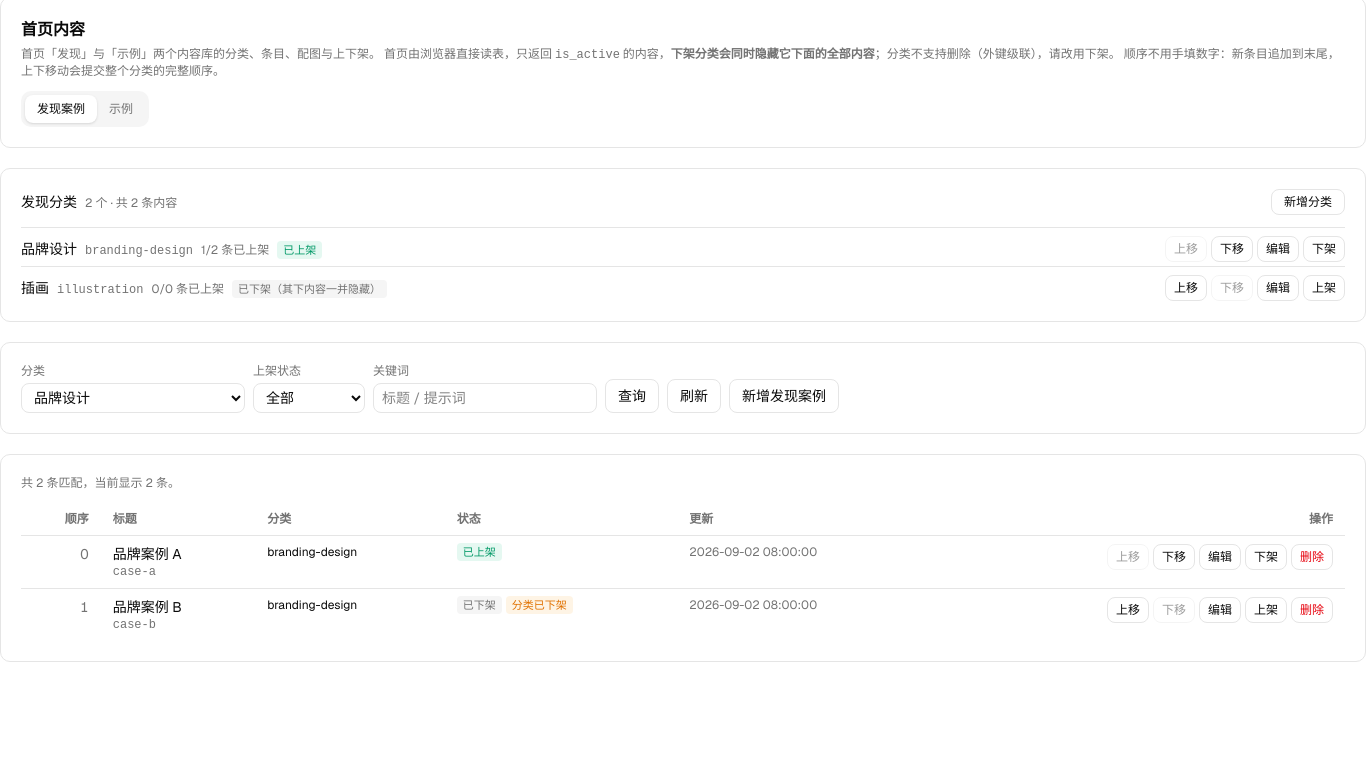
it: admin home content section › reports how many entries a category unpublish hides
Expected: the table with test id "admin-home-table" is shown, [21, 503, 1345, 641]
Click the button "下架" in the row of "品牌设计" at (1324, 249), box [1303, 236, 1345, 262]
(page scrolled)
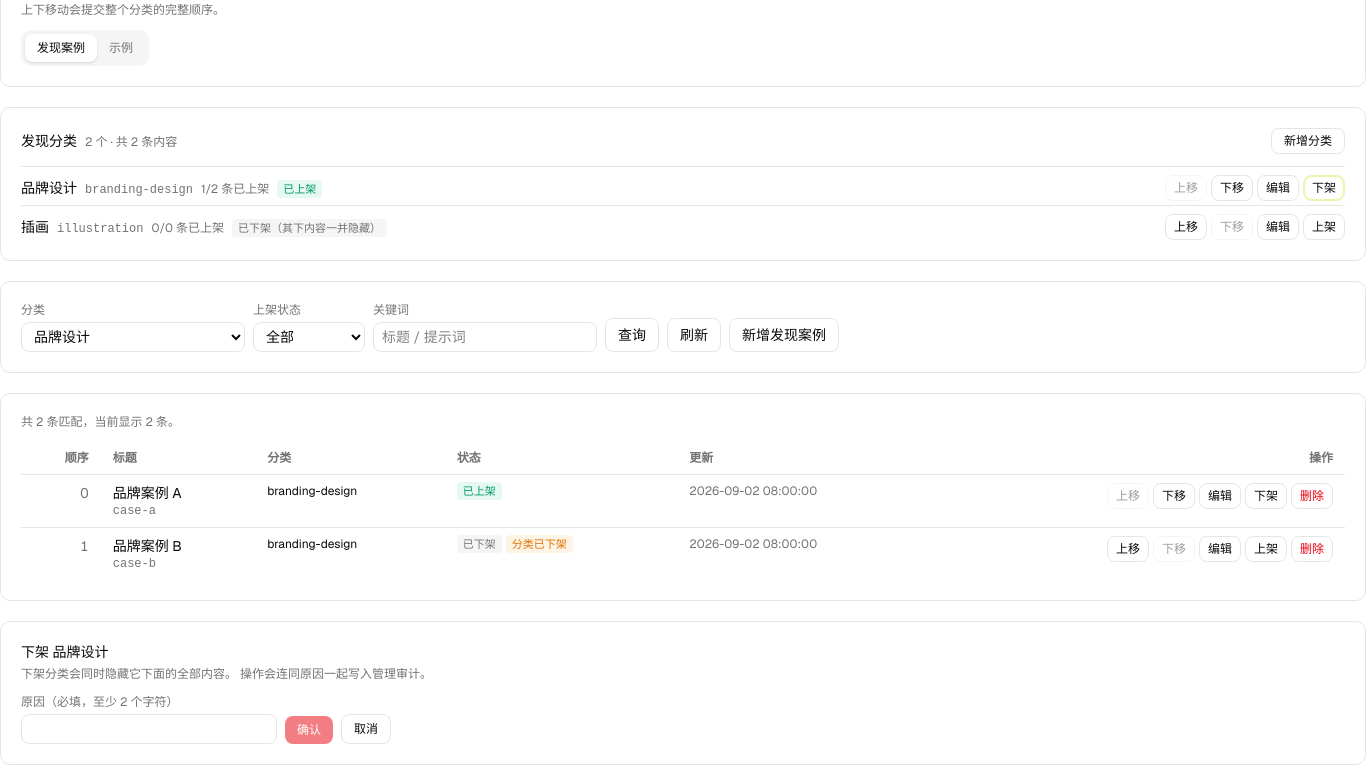
Expected: the element with test id "admin-home-confirm" shows "下架分类会同时隐藏它下面的全部内容。", [21, 666, 237, 682]
Type "整组内容待重做" into the field named "操作原因" at (149, 729), box [21, 714, 277, 744]
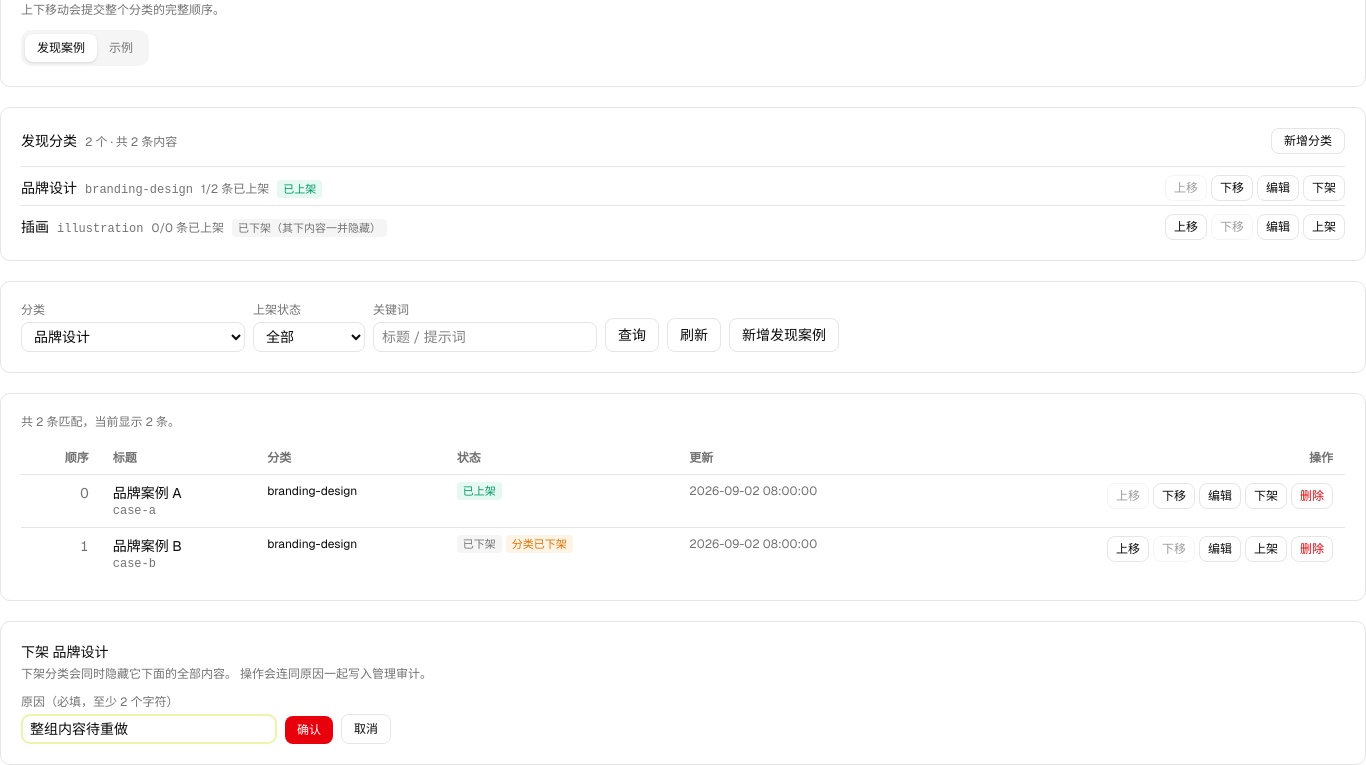
Click the button "确认" at (309, 730), box [285, 716, 333, 744]
(page scrolled)
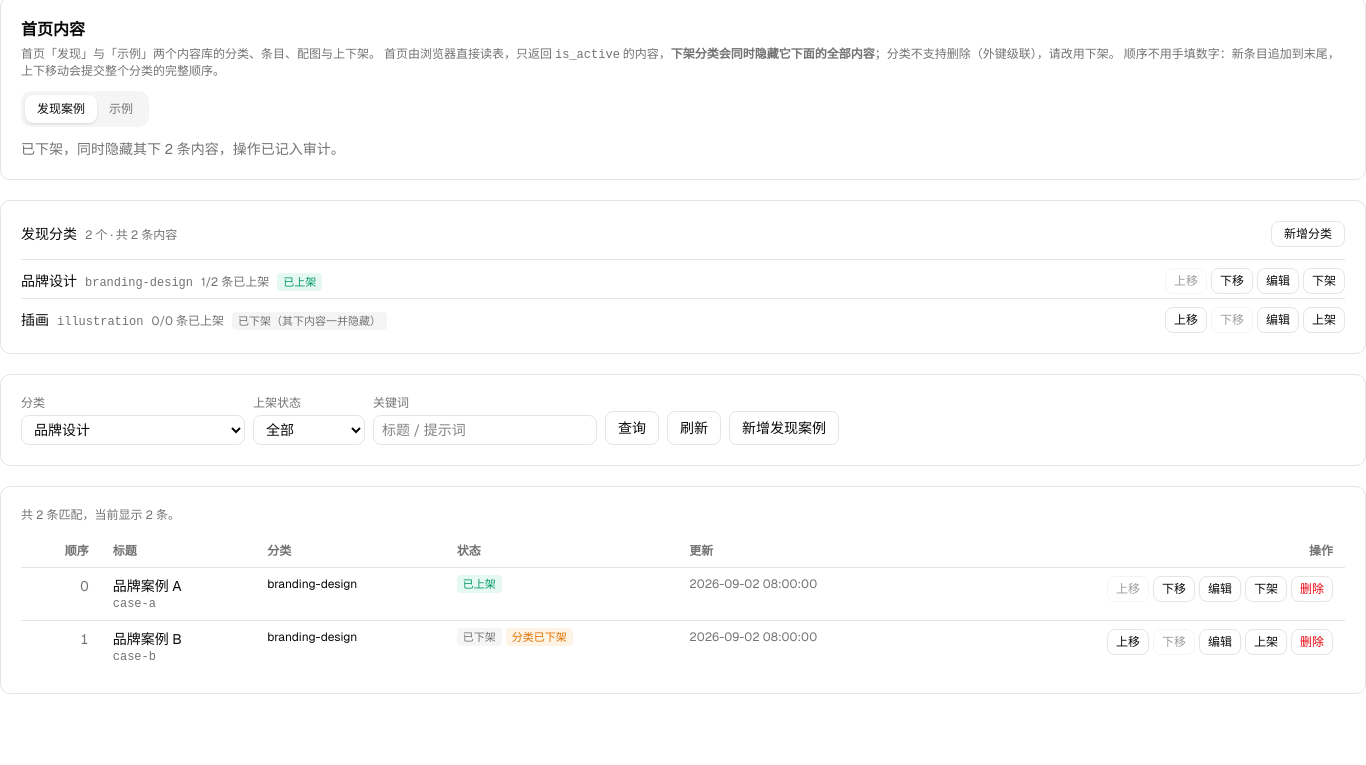
Expected: the text with test id "admin-home-feedback" shows "同时隐藏其下 2 条内容", [21, 140, 345, 158]
